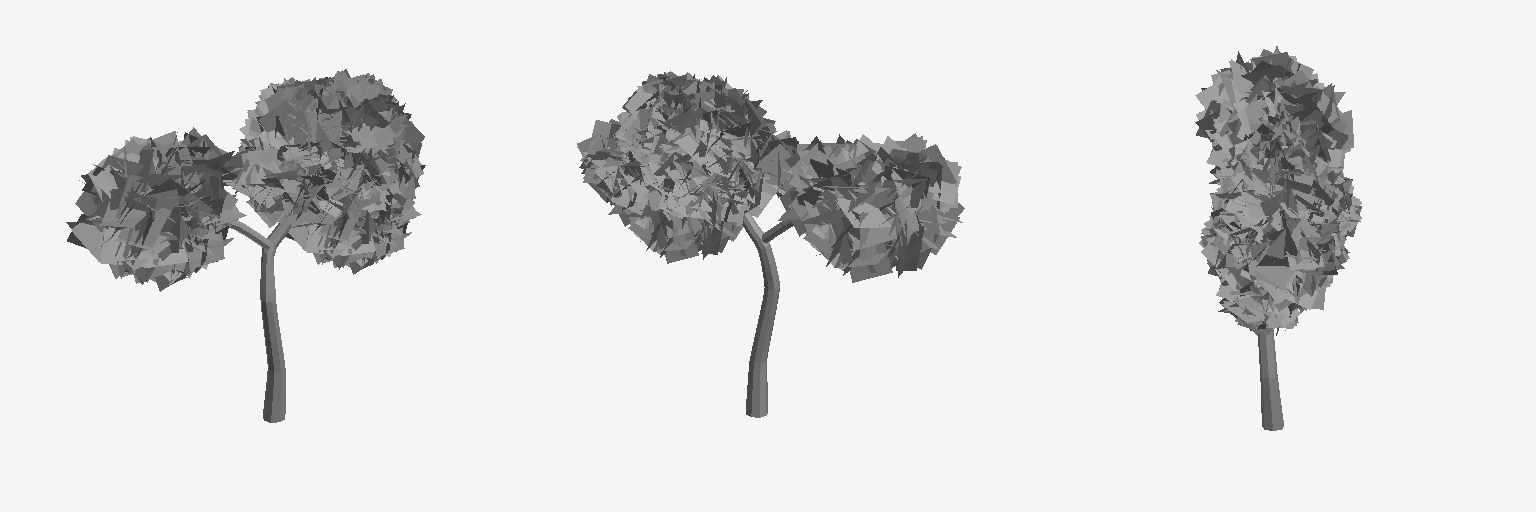
Rendered from NormalTree_4.obj.
The picture shows the model from 3 angles: view 1: azimuth 30°, elevation 25°; view 2: azimuth 150°, elevation 25°; view 3: azimuth 270°, elevation 25°; orthographic projection.
Parts seen in each view (by area): view 1: NormalTree_4_Cube.001; view 2: NormalTree_4_Cube.001; view 3: NormalTree_4_Cube.001.
Part boxes in pixels (x1,y1,x2,y2): NormalTree_4_Cube.001: (66, 69, 425, 422); NormalTree_4_Cube.001: (577, 71, 964, 417); NormalTree_4_Cube.001: (1195, 46, 1361, 430).
Size of the model in its own units: 5.67 by 5.1 by 2.4.